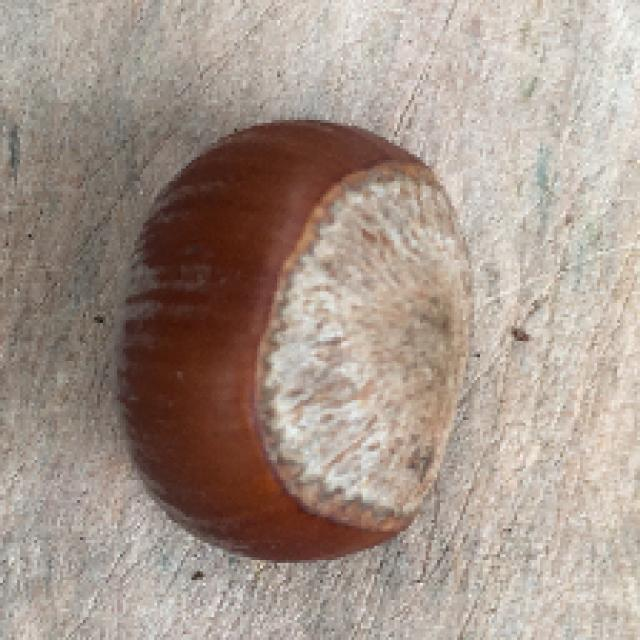qualityHazelnut: (118, 114, 470, 562)
